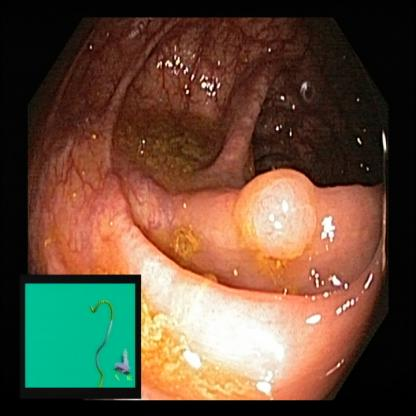Labels: (20, 276, 142, 398)
Polyps: (236, 166, 314, 258)
